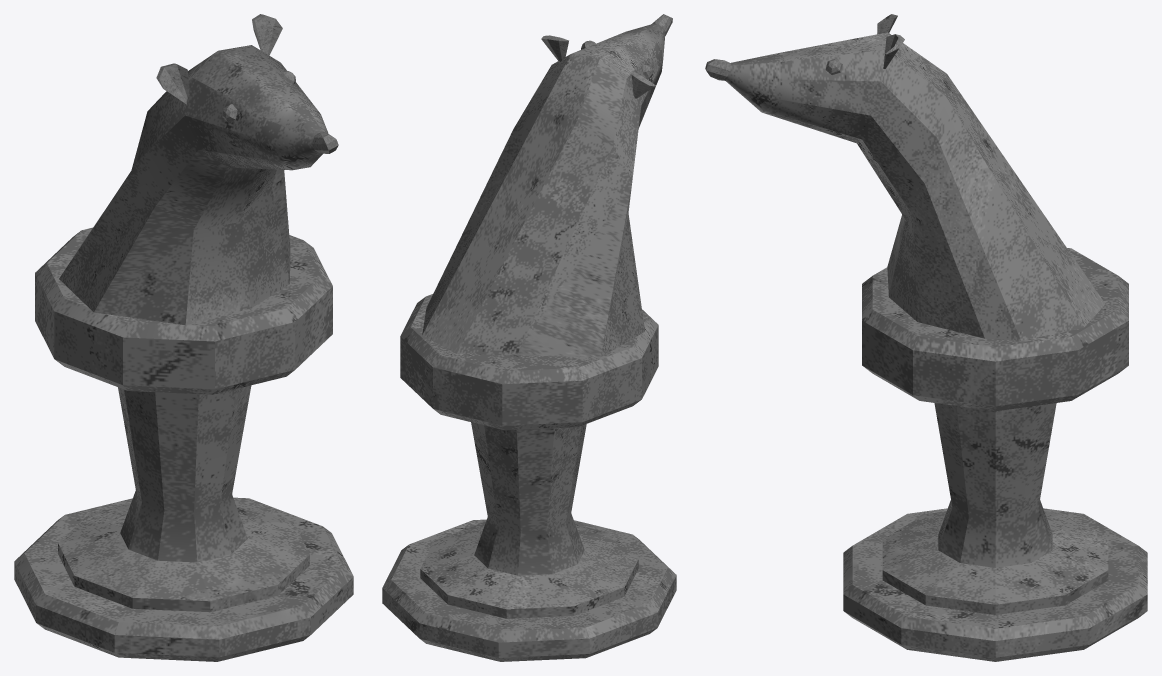
File: ratStatue_EasterEgg.fbx
3 views of the same model, side by side, from view 1: azimuth 30°, elevation 25°; view 2: azimuth 150°, elevation 25°; view 3: azimuth 270°, elevation 25° (orthographic). The views are drawn at different scales.
Parts seen in each view (by area): view 1: polySurface360; view 2: polySurface360; view 3: polySurface360.
Part boxes in pixels (x1,y1,x2,y2): polySurface360: (14,14,353,661); polySurface360: (382,14,676,661); polySurface360: (705,14,1147,661).
Bounding box in the file's own units: 30.82 × 60.94 × 42.61.
